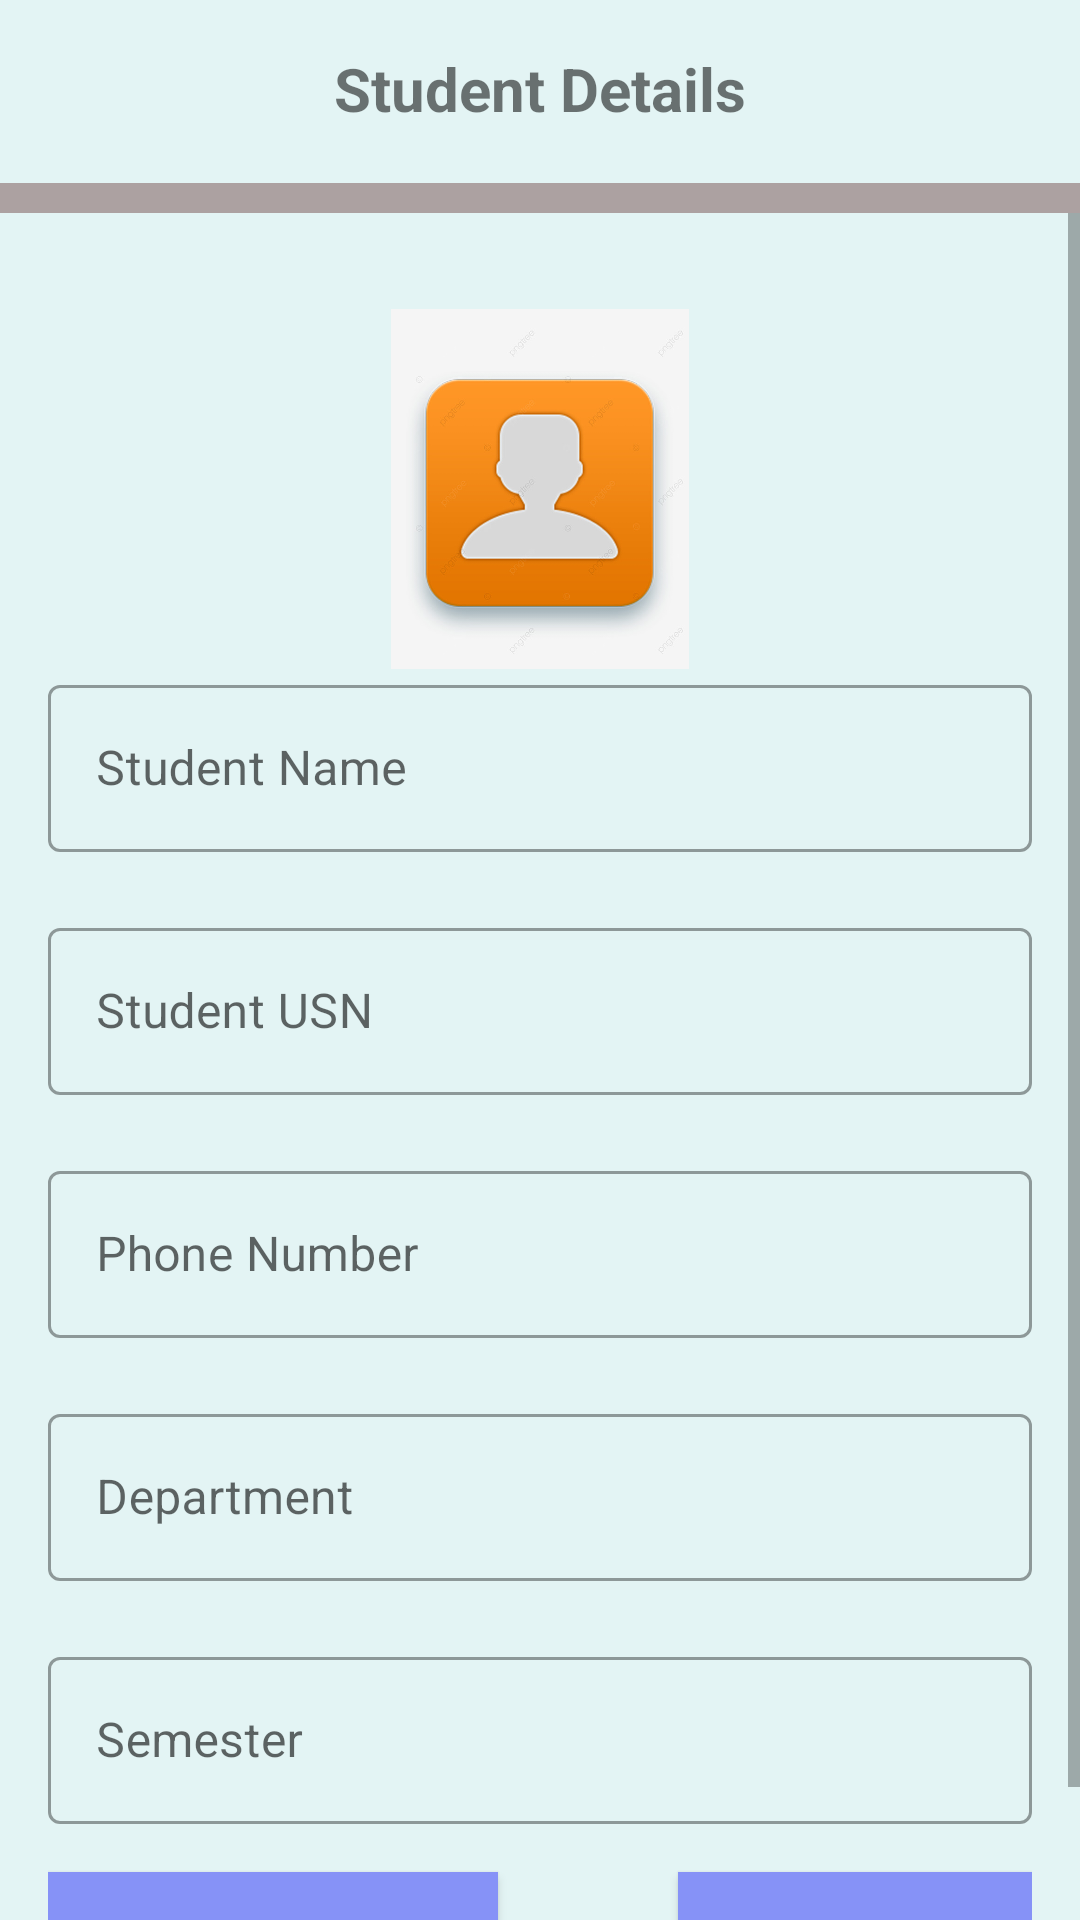

Screen size 1080 × 1920. Icon name, then its center in pixels as (x,y):
profile: (540,506)
